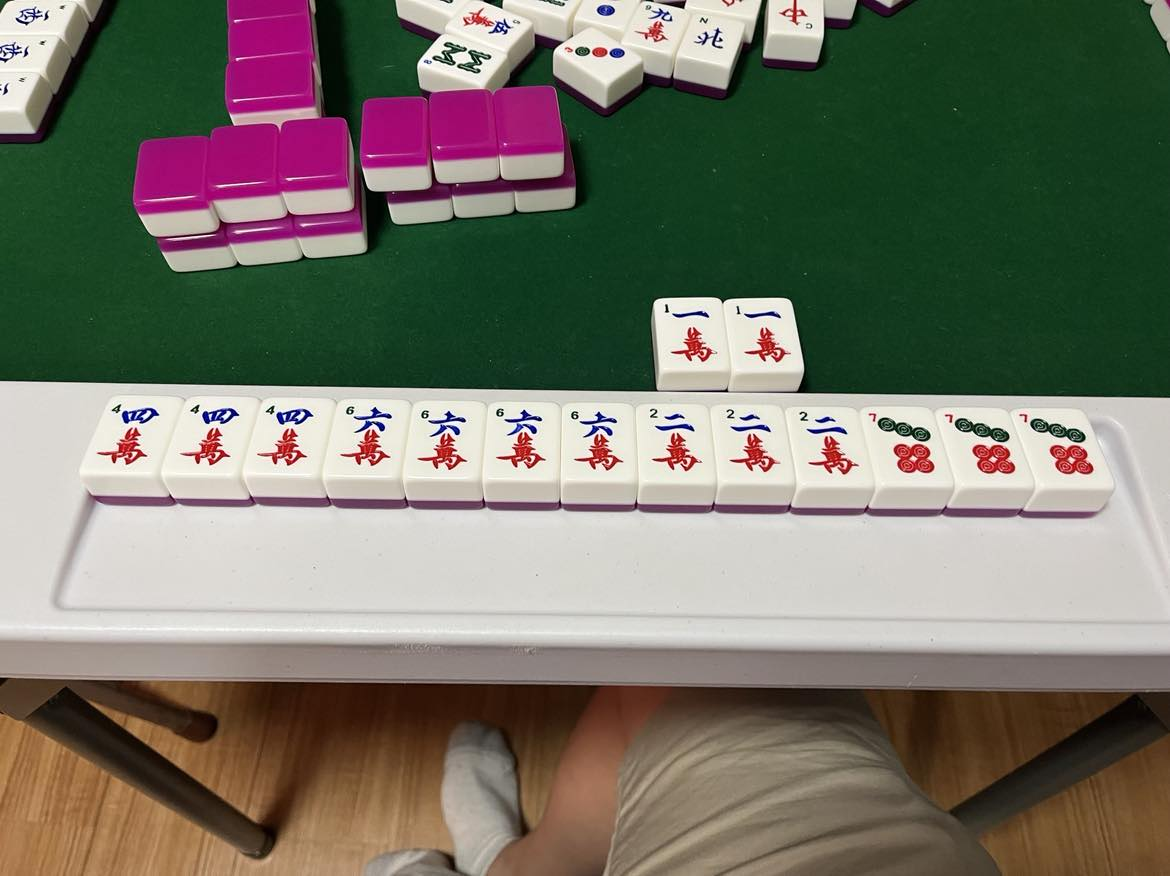character-four: (97, 396, 162, 472), (179, 397, 244, 472), (259, 400, 320, 473)
character-one: (728, 300, 800, 371), (657, 298, 724, 372)
character-six: (489, 403, 556, 480), (566, 405, 634, 480), (412, 403, 475, 482), (337, 399, 398, 476)
character-two: (718, 407, 790, 484), (794, 406, 862, 485), (643, 406, 710, 484)
circle-seven: (1019, 406, 1101, 479), (865, 408, 938, 481), (945, 407, 1016, 479)
